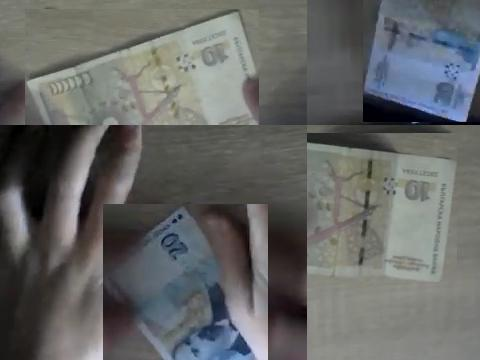10leva: (25, 9, 257, 125), (307, 139, 457, 282)
20leva: (103, 204, 260, 360)
